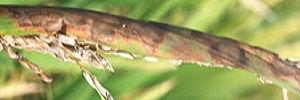RiceSheathBrownRot: (1, 6, 297, 97)
